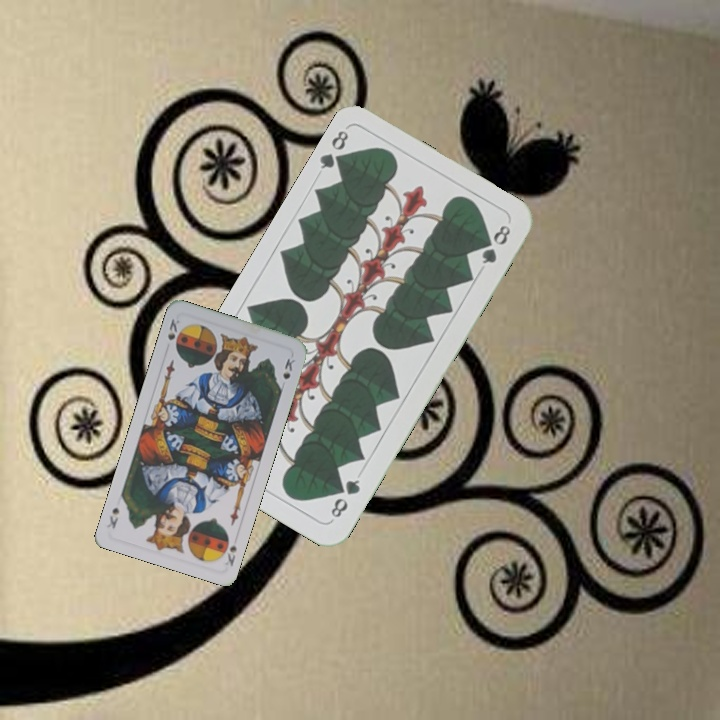G8: (326, 475, 363, 521), (315, 126, 351, 173)
SK: (217, 531, 239, 569), (163, 314, 182, 343)
